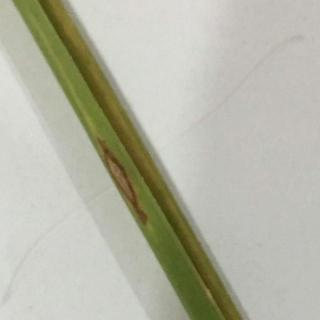Blast: (94, 126, 178, 250)
